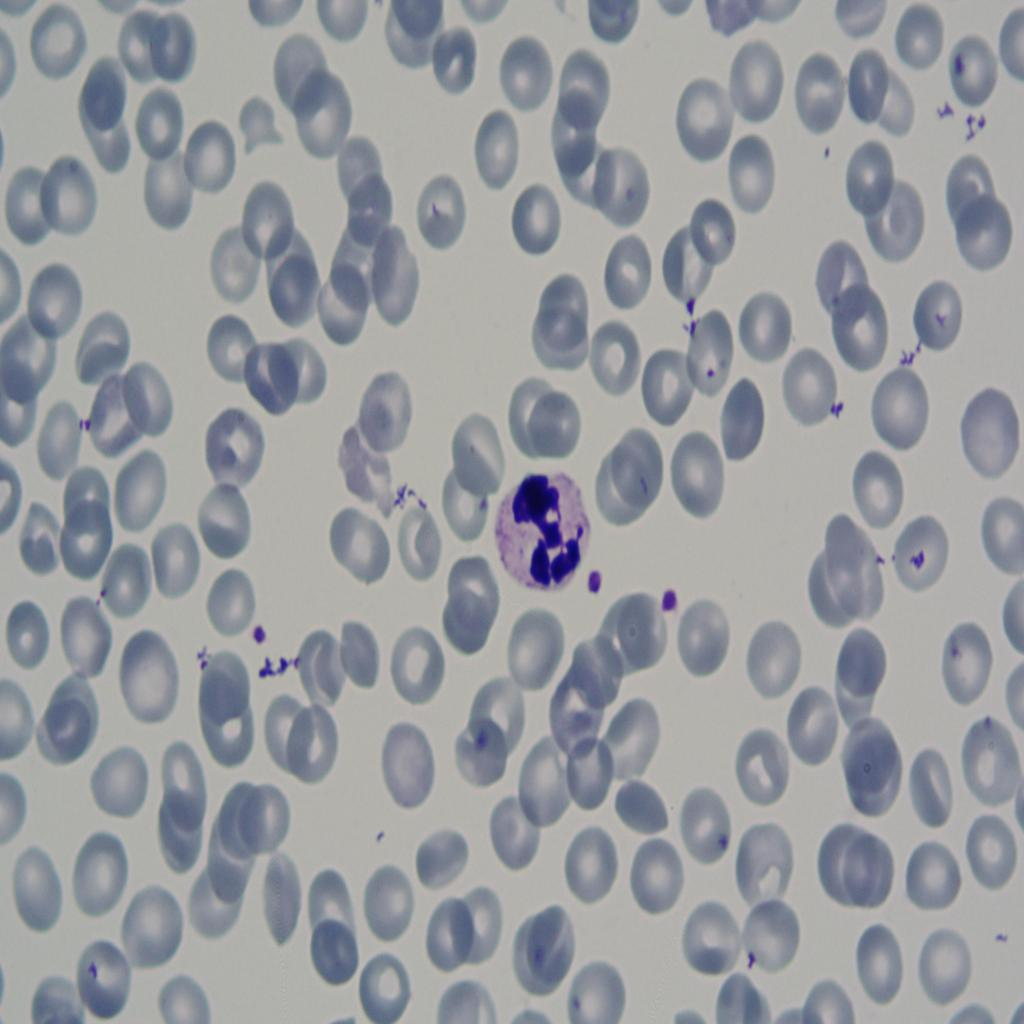Eosinofil: (488, 451, 595, 597)
Platelet: (576, 560, 612, 606), (240, 619, 276, 651), (655, 583, 686, 616)
